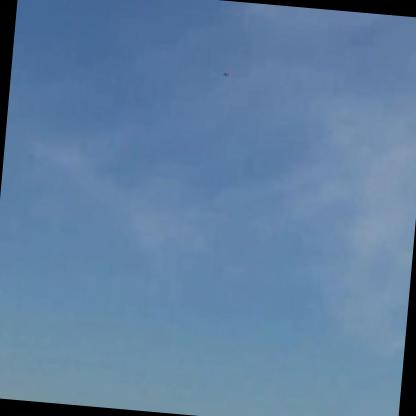plane: (218, 66, 233, 81)
